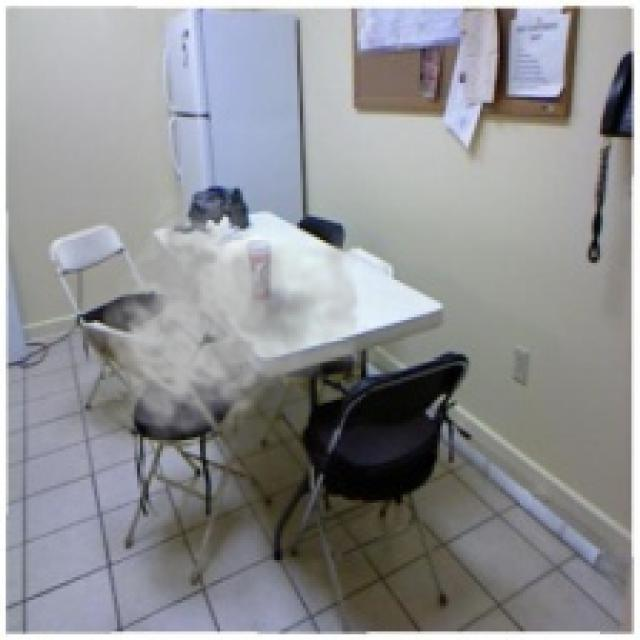Smoke: (100, 188, 380, 448)
